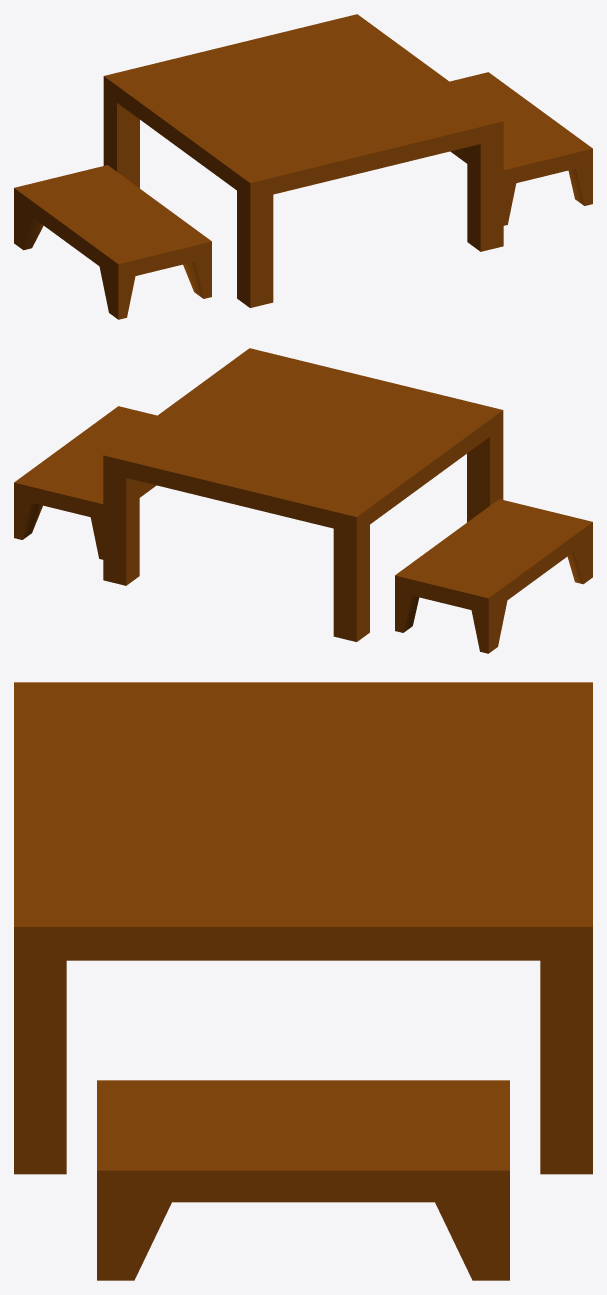
The model's file is parkingtable.fbx.
The picture shows the model from 3 angles, top to bottom: view 1: azimuth 30°, elevation 25°; view 2: azimuth 150°, elevation 25°; view 3: azimuth 270°, elevation 25°; orthographic projection. The views are drawn at different scales.
Parts seen in each view (by area): view 1: parkingtable; view 2: parkingtable; view 3: parkingtable.
Part boxes in pixels (x1=…): parkingtable: x1=14, y1=14, x2=592, y2=319; parkingtable: x1=14, y1=348, x2=592, y2=653; parkingtable: x1=14, y1=682, x2=592, y2=1280.
Size of the model in its own units: 5.07 by 1.28 by 2.71.
